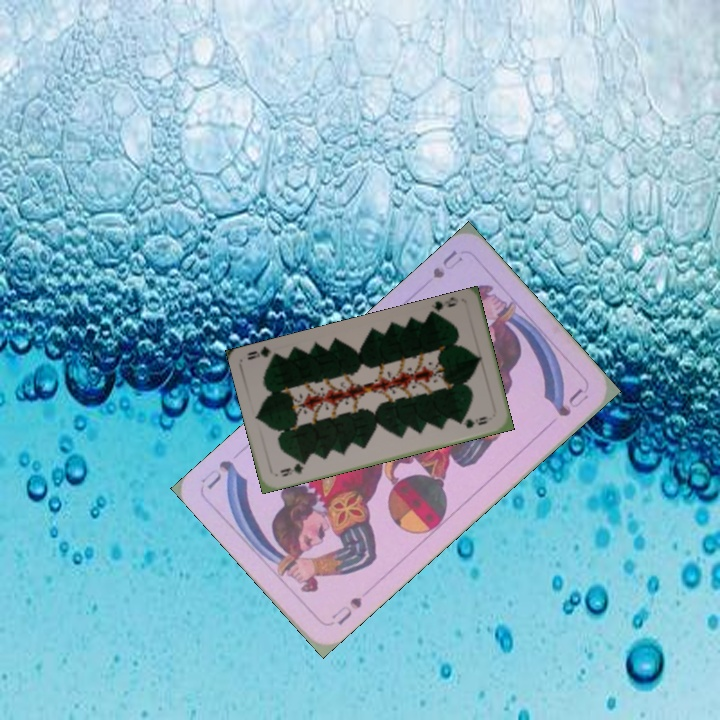G9: (425, 294, 461, 319), (276, 457, 310, 479)
SU: (428, 246, 465, 283), (327, 593, 365, 628)
